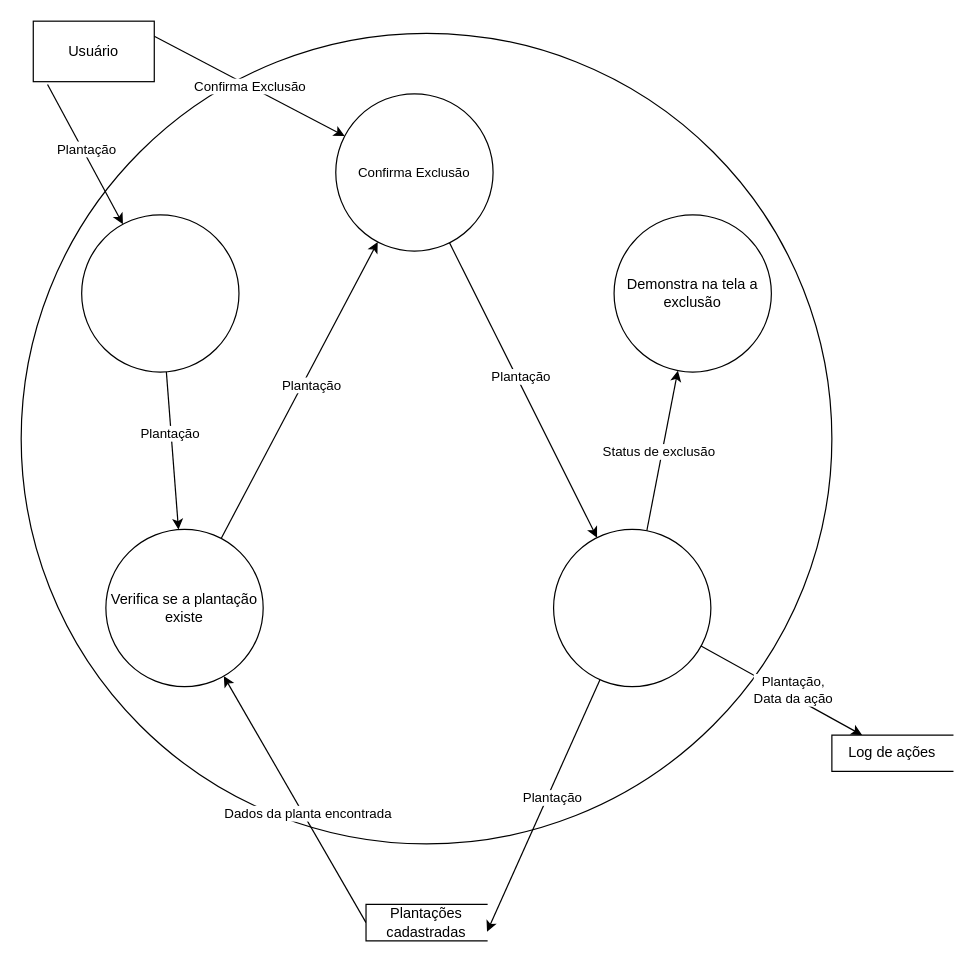
Some shapes in this 974 by 963 pixel diagram are drawn without their labels. Each missing label, with the centre of its shape:
Exclui a plantação: (631,607)
Recebe plantação: (159,293)
